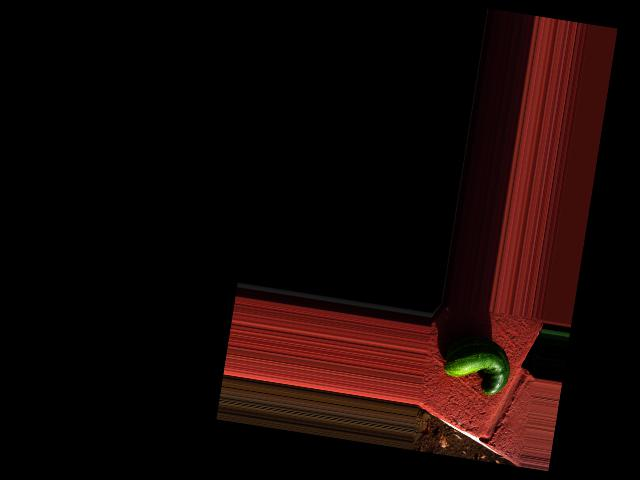cucumber: (440, 332, 514, 398)
